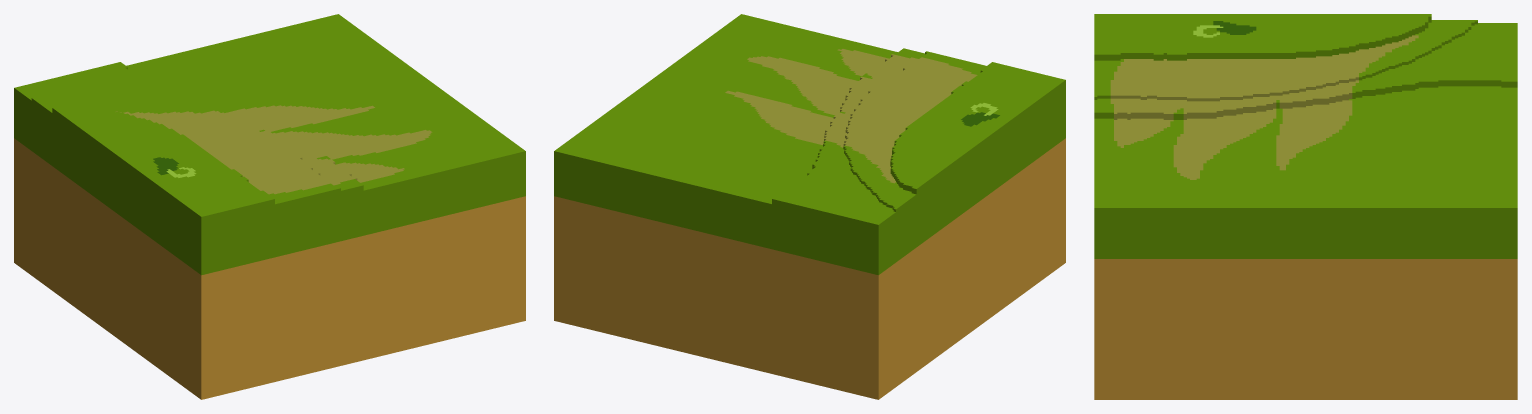
3 renders of one model, left to right at view 1: azimuth 30°, elevation 25°; view 2: azimuth 150°, elevation 25°; view 3: azimuth 270°, elevation 25°, orthographic. The views are drawn at different scales.
Visible parts, largest first — view 1: 16G; view 2: 16G; view 3: 16G.
Part boxes in pixels (box(x1,y1,x2,y2)): 16G: box(14, 14, 525, 399); 16G: box(554, 14, 1065, 399); 16G: box(1094, 14, 1517, 399).
Bounding box in the file's own units: 12.8 × 6.9 × 12.8.
1 material, 1 textured.
